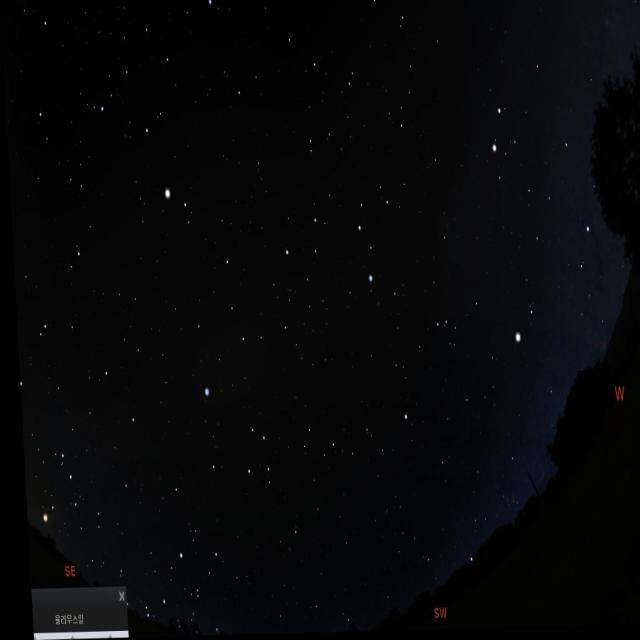bootes: (116, 23, 187, 222)
canis_minor: (499, 299, 538, 360)
gemini: (481, 80, 607, 247)
leo: (265, 173, 406, 320)
scorpius: (20, 439, 77, 586)
